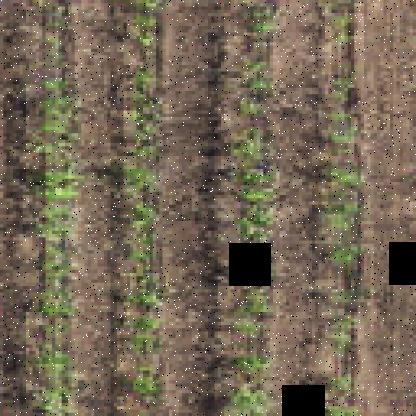sorghum_plant: (124, 3, 172, 414), (233, 3, 274, 416), (35, 3, 75, 415), (316, 72, 371, 356), (323, 1, 368, 53), (324, 377, 366, 416)
